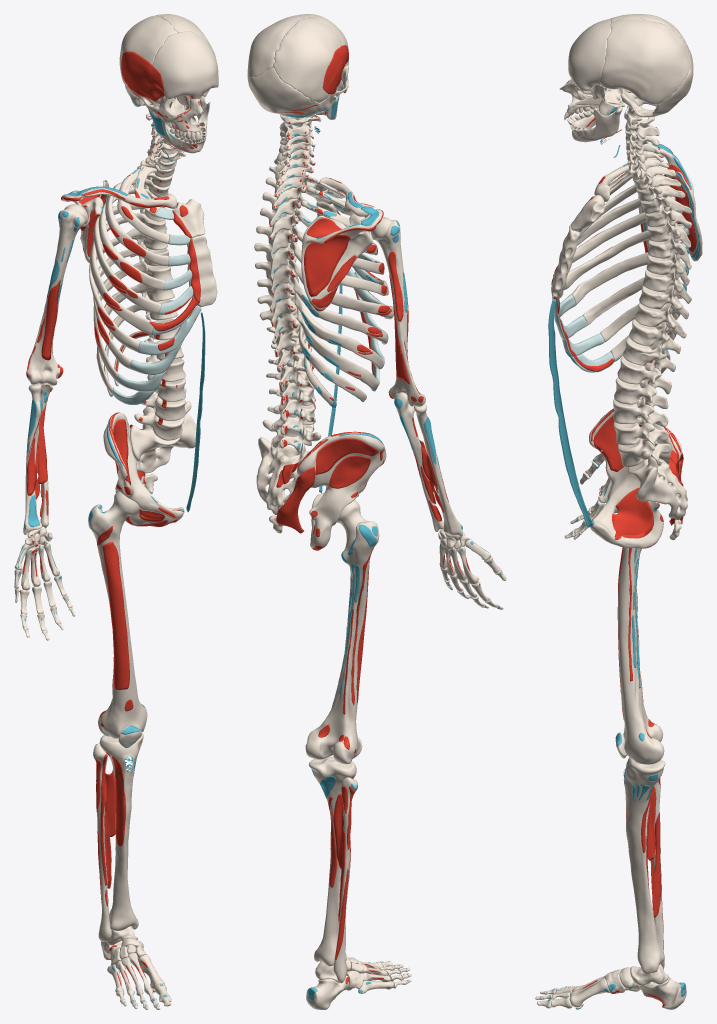
File: open3dmodel-insertions-and-origins.glb
3 views of the same model, side by side, from view 1: azimuth 30°, elevation 25°; view 2: azimuth 150°, elevation 25°; view 3: azimuth 270°, elevation 25° (orthographic). The views are drawn at different scales.
Parts seen in each view (by area): view 1: Femur.r, Frontal bone, Tibia.r, Humerus.r, Vastus intermedius origin and insertion.r, Hip bone.r, Sacrum, Parietal bone right, Temporalis muscle origin and insertion.r, Pectoralis major origin and insertion.r, Fibula.r, Body of sternum (+34 smaller); view 2: Femur.r, Parietal bone right, Hip bone.r, Tibia.r, Humerus.r, Sacrum, Occipital bone, Scapula.r., Infraspinatus muscle origin and insertion.r, Parietal bone left, Gluteus medius origin and insertion.r, Gluteus maximus origin and insertion.r (+20 smaller); view 3: Parietal bone left, Femur.r, Tibia.r, Hip bone.r, Frontal bone, Sacrum, Internal abdominal oblique muscle origin and insertion.r, Obturator internus origin and insertion.r, Mandible bone, Occipital bone, Rib (7th).r, Lumbar vertebrae (L1) (+37 smaller).
Part boxes in pixels (x1,y1,x2,y2): Femur.r: (88, 491, 147, 738); Frontal bone: (152, 31, 218, 99); Tibia.r: (99, 733, 143, 930); Humerus.r: (27, 204, 87, 385); Vastus intermedius origin and insertion.r: (102, 541, 132, 759); Hip bone.r: (103, 412, 184, 526); Sacrum: (130, 413, 196, 473); Parietal bone right: (119, 15, 177, 85); Temporalis muscle origin and insertion.r: (121, 51, 164, 101); Pectoralis major origin and insertion.r: (61, 202, 200, 350); Fibula.r: (93, 743, 111, 941); Body of sternum: (187, 235, 217, 306); Femur.r: (305, 500, 379, 764); Parietal bone right: (273, 17, 342, 102); Hip bone.r: (297, 432, 386, 549); Tibia.r: (309, 756, 356, 966); Humerus.r: (370, 217, 425, 406); Sacrum: (256, 437, 309, 515); Occipital bone: (248, 67, 318, 117); Scapula.r.: (301, 209, 382, 309); Infraspinatus muscle origin and insertion.r: (304, 225, 399, 296); Parietal bone left: (247, 15, 309, 81); Gluteus medius origin and insertion.r: (315, 438, 378, 546); Gluteus maximus origin and insertion.r: (276, 467, 360, 602); Parietal bone left: (599, 18, 690, 104); Femur.r: (618, 547, 664, 764); Tibia.r: (624, 757, 665, 974); Hip bone.r: (589, 407, 681, 548); Frontal bone: (568, 18, 611, 90); Sacrum: (628, 441, 687, 520); Internal abdominal oblique muscle origin and insertion.r: (548, 298, 620, 527); Obturator internus origin and insertion.r: (612, 487, 653, 538); Mandible bone: (570, 105, 622, 142); Occipital bone: (620, 48, 693, 117); Rib (7th).r: (571, 242, 688, 305); Lumbar vertebrae (L1): (617, 356, 671, 394).
Size of the model in its own units: 0.4097 by 1.7 by 0.2542.
